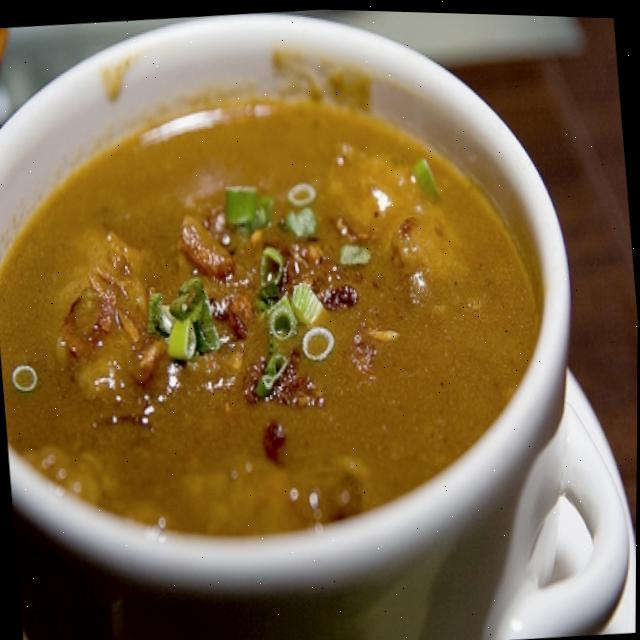汤锅炖物: (0, 0, 568, 586)
